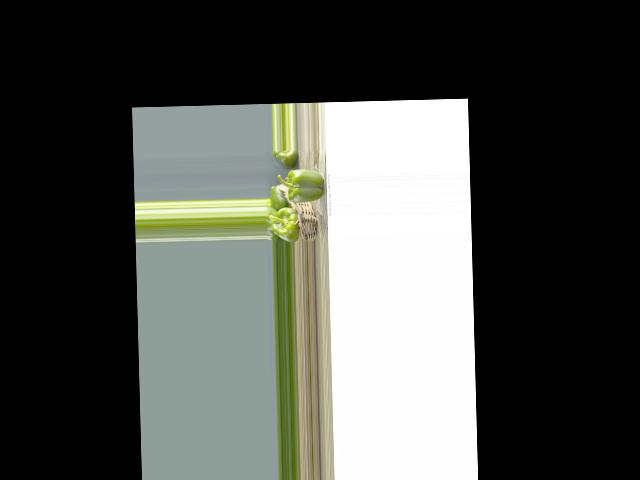bell_pepper: (273, 149, 294, 163)
